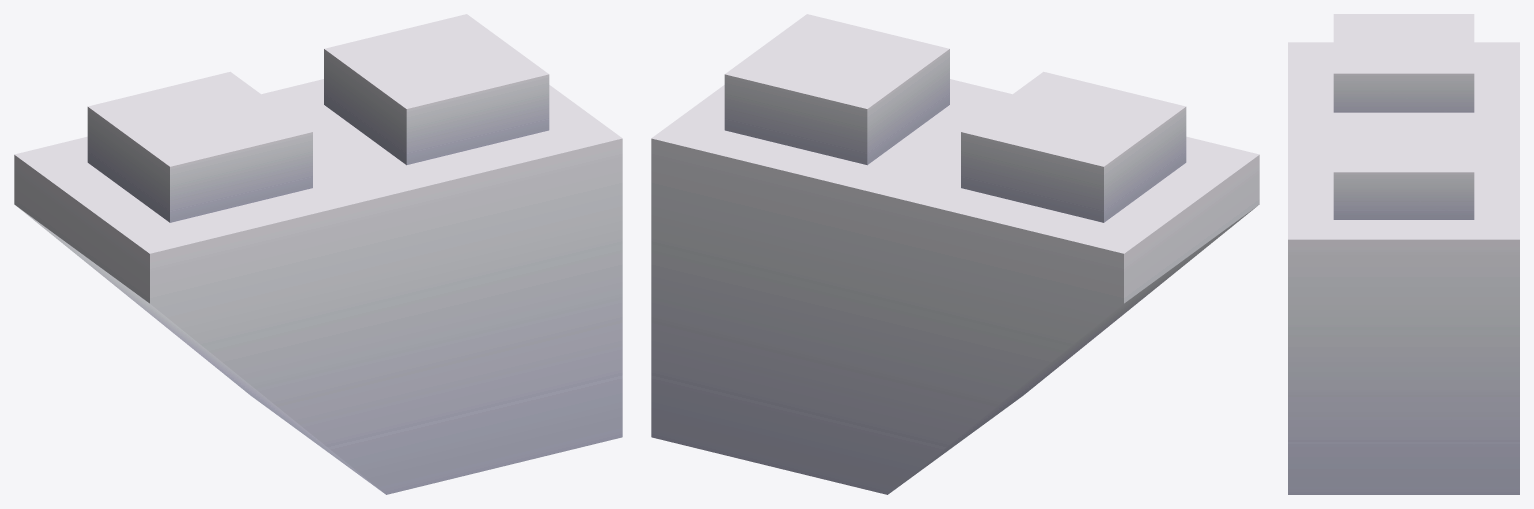
The model's file is square-lq-brick-slope-inverted-1x2.glb.
3 views of the same model, side by side, from view 1: azimuth 30°, elevation 25°; view 2: azimuth 150°, elevation 25°; view 3: azimuth 270°, elevation 25° (orthographic). The views are drawn at different scales.
Visible parts, largest first — view 1: square-lq-brick-slope-inverted-1x2; view 2: square-lq-brick-slope-inverted-1x2; view 3: square-lq-brick-slope-inverted-1x2.
Boxes of the visible parts, x1,y1,x2,y2 form: square-lq-brick-slope-inverted-1x2: (14, 14, 622, 494); square-lq-brick-slope-inverted-1x2: (651, 14, 1259, 494); square-lq-brick-slope-inverted-1x2: (1288, 14, 1519, 494).
Size of the model in its own units: 0.159 by 0.114 by 0.079.
1 material, 1 textured.
